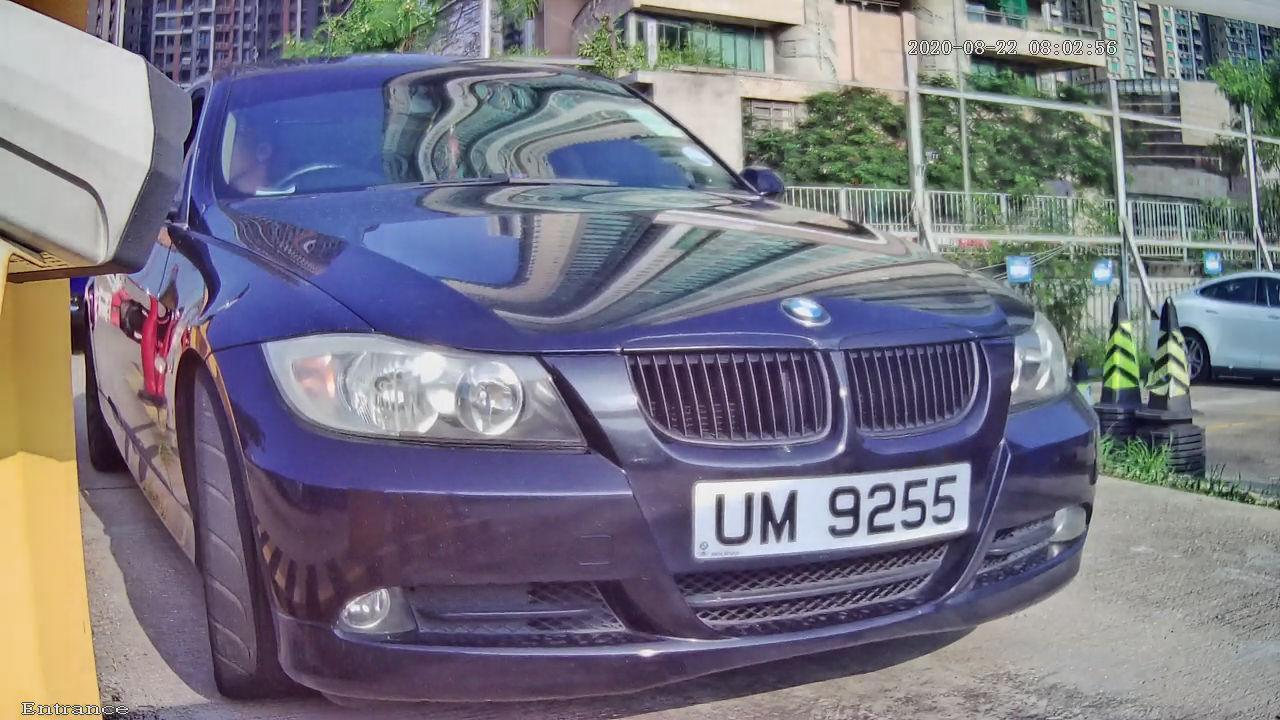Car: (23, 7, 1172, 720)
License Plate: (692, 454, 972, 576)
